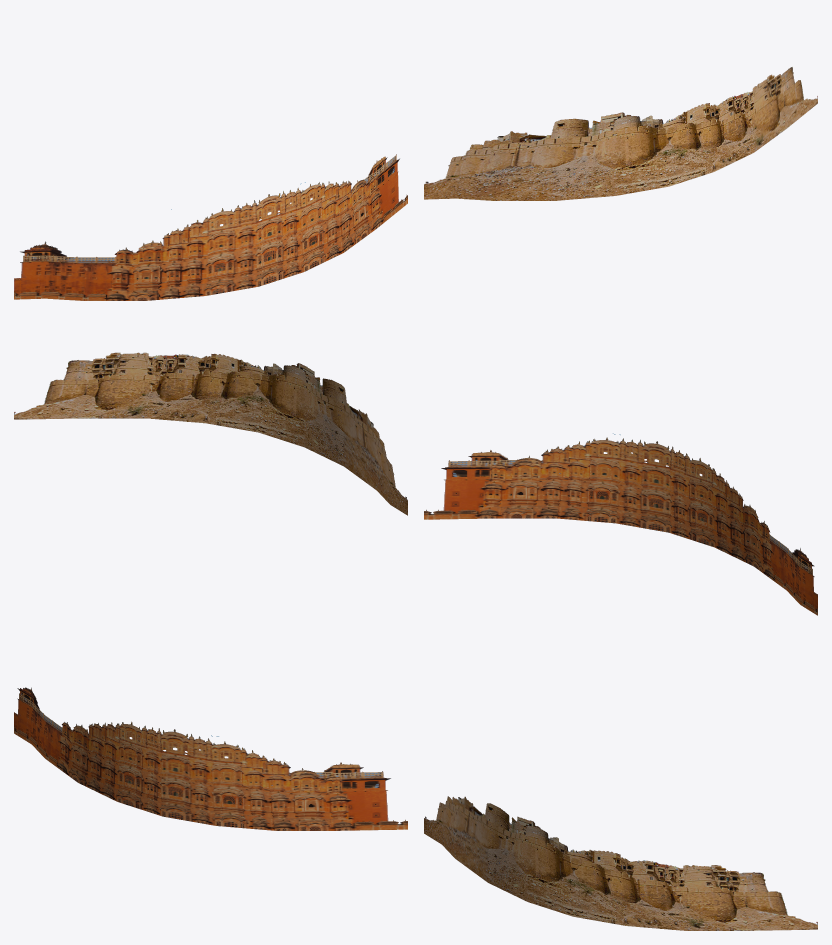
Rendered from fort.fbx.
The picture shows the model from 3 angles, top to bottom: view 1: azimuth 30°, elevation 25°; view 2: azimuth 150°, elevation 25°; view 3: azimuth 330°, elevation 25°; orthographic projection.
Parts seen in each view (by area): view 1: pPlane2, pPlane3; view 2: pPlane2, pPlane3; view 3: pPlane2, pPlane3.
Boxes of the visible parts, bbox=[...] form: pPlane2: bbox=[14, 154, 407, 300]; pPlane3: bbox=[424, 67, 817, 200]; pPlane2: bbox=[424, 433, 817, 615]; pPlane3: bbox=[14, 352, 407, 515]; pPlane2: bbox=[14, 687, 407, 830]; pPlane3: bbox=[424, 796, 817, 930].
Bounding box in the file's own units: 112 × 11.92 × 11.59.
2 materials, 2 textured.
